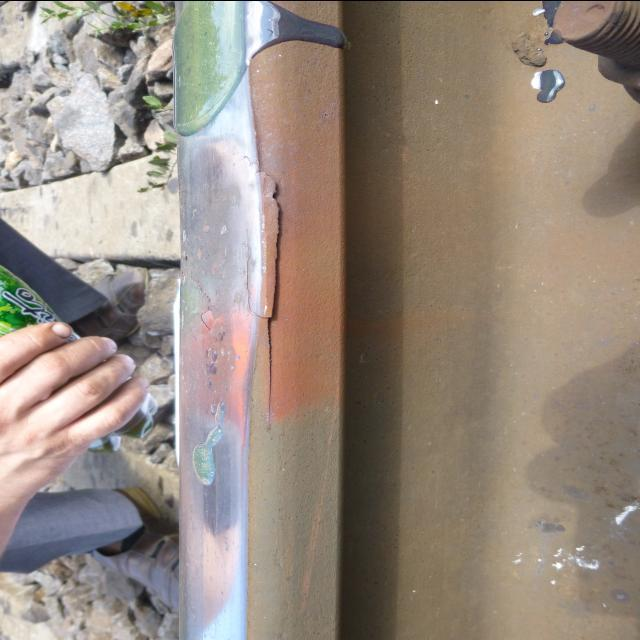head_checks_medium: (247, 66, 283, 426)
